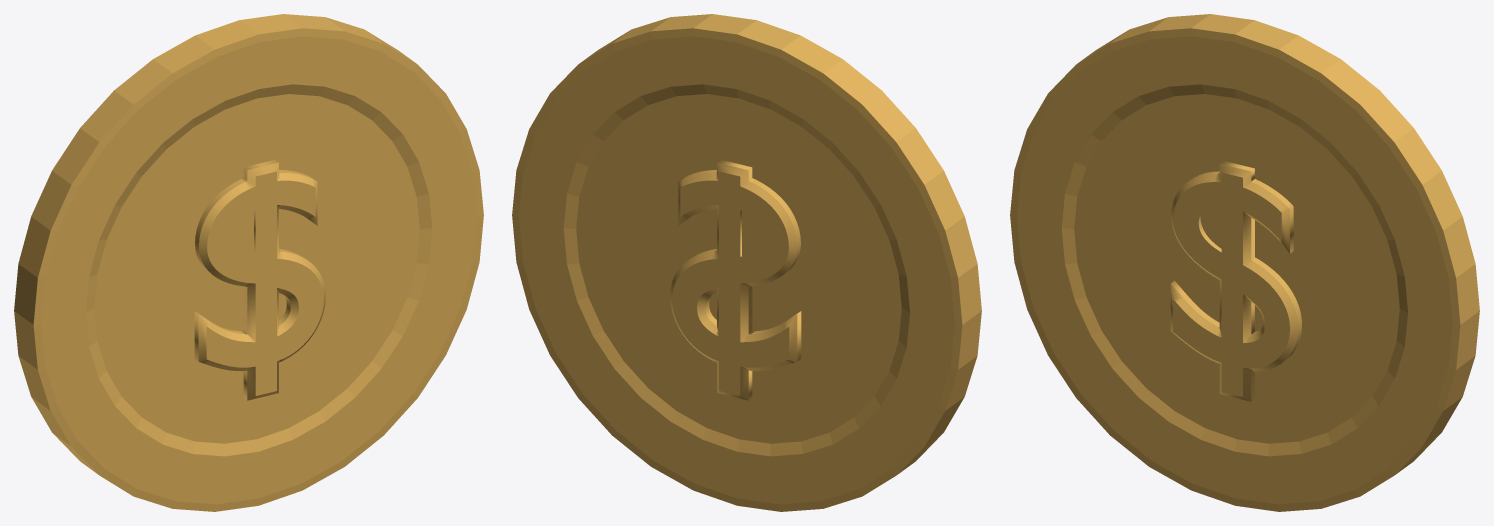
File: Gold_Coin.fbx
3 views of the same model, side by side, from view 1: azimuth 30°, elevation 25°; view 2: azimuth 150°, elevation 25°; view 3: azimuth 330°, elevation 25° (orthographic).
Parts seen in each view (by area): view 1: Text; view 2: Text; view 3: Text.
Boxes of the visible parts, left/top/right/bottom form: Text: left=14, top=14, right=483, bottom=511; Text: left=512, top=14, right=981, bottom=511; Text: left=1010, top=14, right=1479, bottom=511.
Bounding box in the file's own units: 497 × 497 × 56.91.
